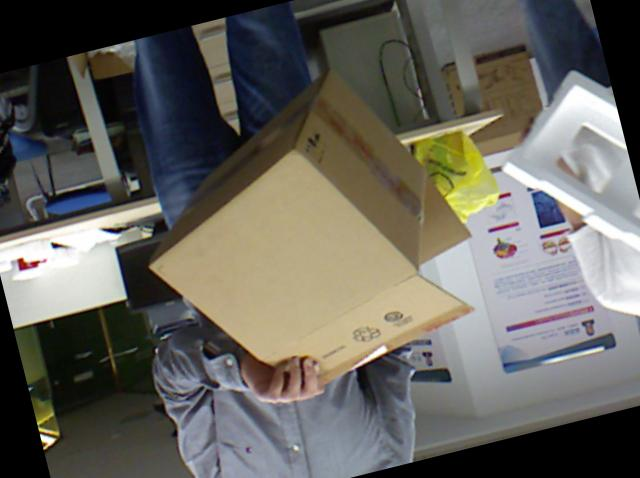cardboard paper: (146, 65, 475, 385)
